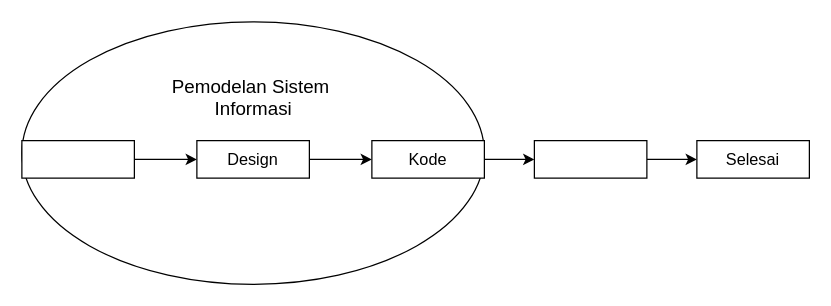
This 831x306 diagram has some shape labels left out. The shapes that lost their labels are listed below. From the top down, each one's centre as x and y in pixels, then its label:
At pixel 77 158: "Analisa".
At pixel 590 158: "Testing".
